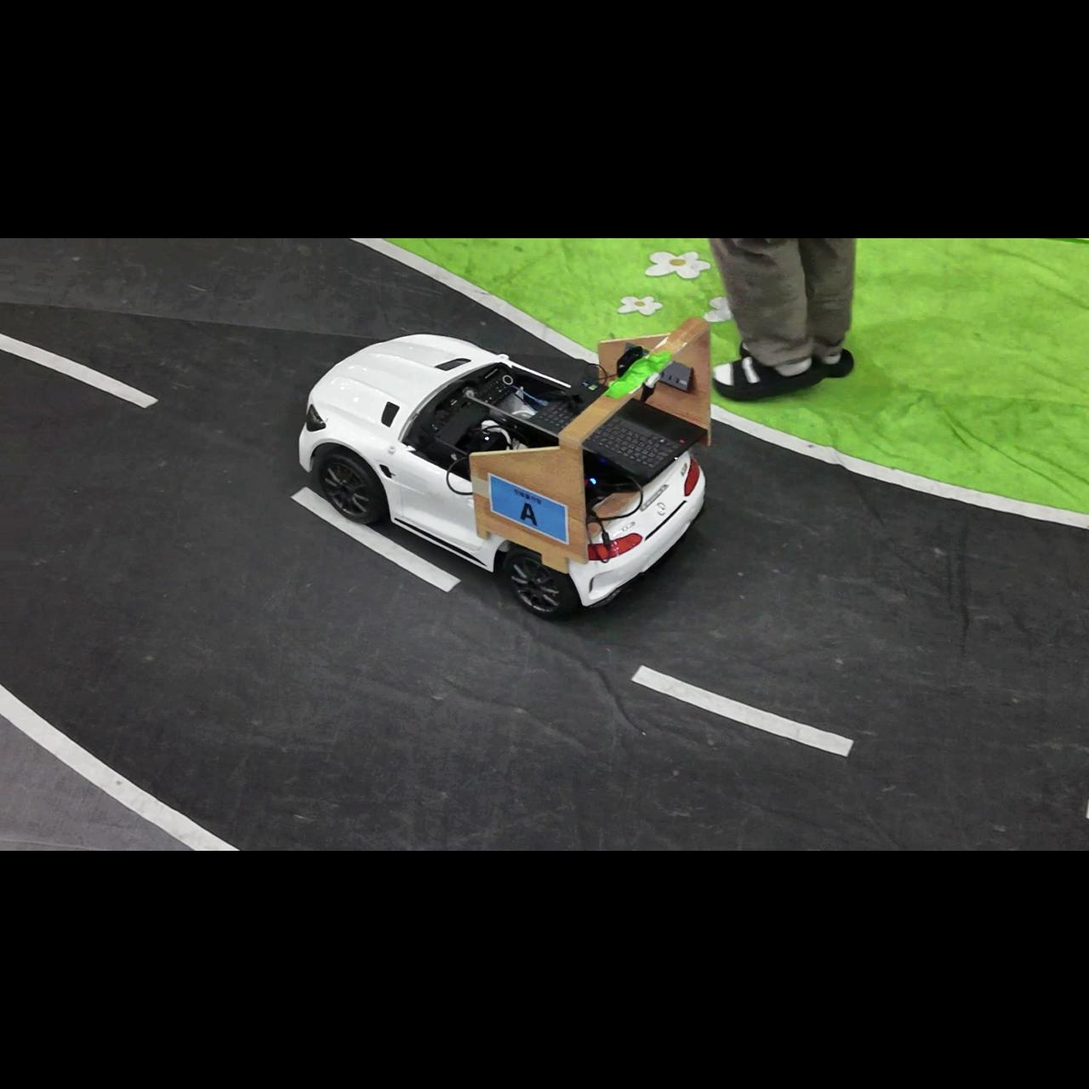broken_line: (630, 664, 855, 758), (290, 487, 461, 593), (0, 334, 159, 409)
